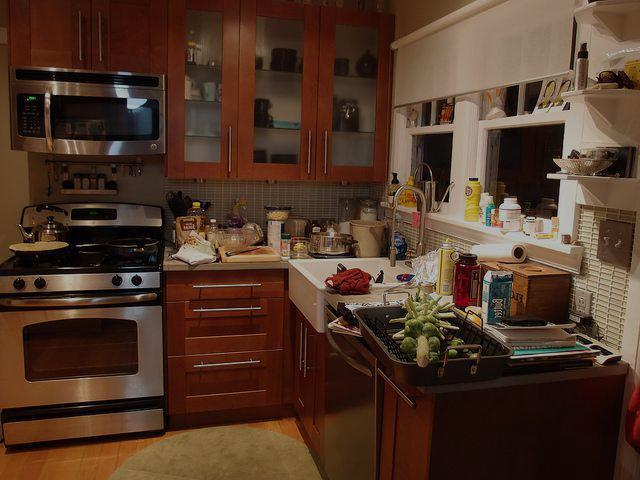Lavaplatos: (282, 174, 453, 339)
